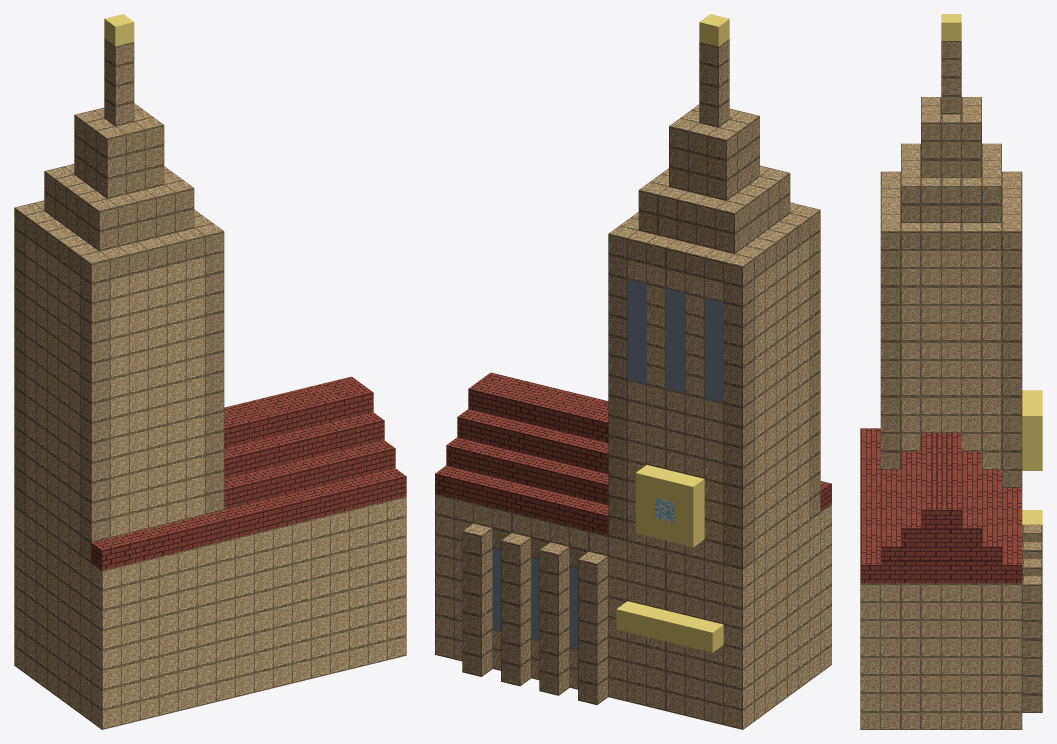
File: muenster.glb
The picture shows the model from 3 angles, left to right: view 1: azimuth 30°, elevation 25°; view 2: azimuth 150°, elevation 25°; view 3: azimuth 270°, elevation 25°; orthographic projection. The views are drawn at different scales.
Visible parts, largest first — view 1: muenster; view 2: muenster; view 3: muenster.
Part boxes in pixels (<box>): muenster: <box>14,14,406,729</box>; muenster: <box>435,14,831,729</box>; muenster: <box>860,14,1042,729</box>.
Bounding box in the file's own units: 16 × 33 × 9.
1 material, 1 textured.
